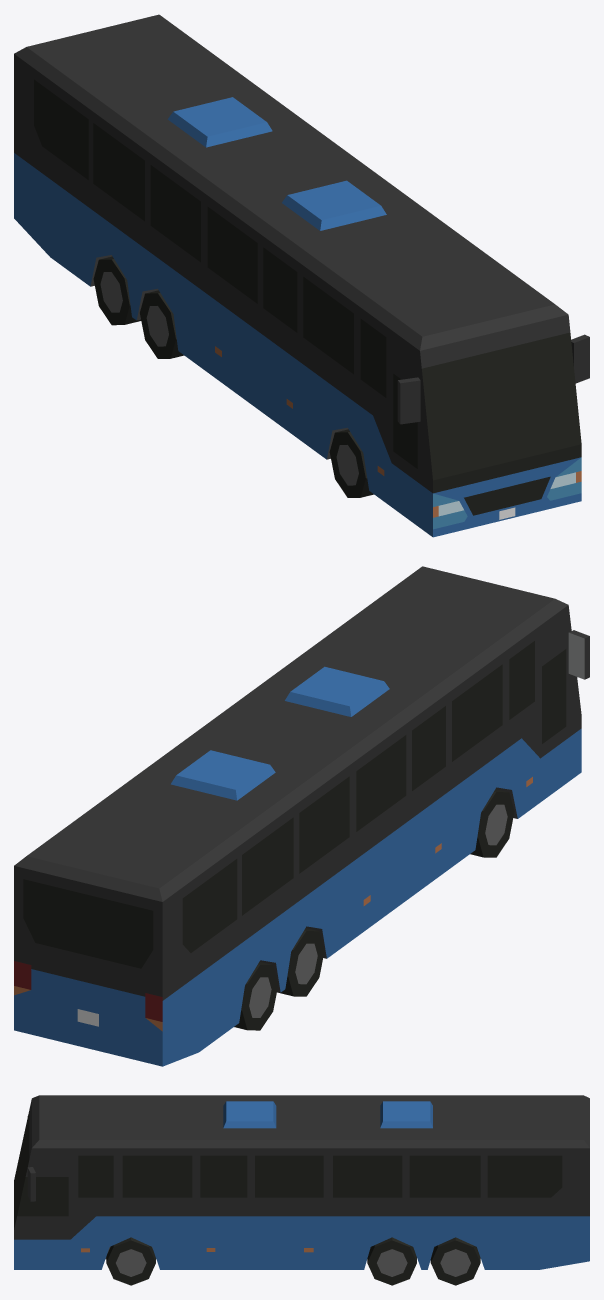
File: Veh_Coach_01_Blue.glb
3 renders of one model, top to bottom at view 1: azimuth 30°, elevation 25°; view 2: azimuth 150°, elevation 25°; view 3: azimuth 270°, elevation 25°, orthographic. The views are drawn at different scales.
Parts seen in each view (by area): view 1: Coach_01_Blue, Wheel_FR, Wheel_RR2, Wheel_RR1; view 2: Coach_01_Blue, Wheel_RR1, Wheel_RR2, Wheel_FR; view 3: Coach_01_Blue, Wheel_RL2, Wheel_RL1, Wheel_FL.
Boxes of the visible parts, x1,y1,x2,y2 form: Coach_01_Blue: (14, 14, 589, 537); Wheel_FR: (329, 429, 373, 497); Wheel_RR2: (93, 256, 141, 325); Wheel_RR1: (140, 290, 183, 358); Coach_01_Blue: (14, 566, 589, 1066); Wheel_RR1: (277, 928, 324, 996); Wheel_RR2: (234, 962, 278, 1030); Wheel_FR: (470, 789, 514, 857); Coach_01_Blue: (14, 1095, 589, 1269); Wheel_RL2: (430, 1237, 480, 1285); Wheel_RL1: (367, 1237, 416, 1285); Wheel_FL: (106, 1237, 155, 1285).
Bounding box in the file's own units: 1.75 × 1.9 × 6.68.
1 material, 1 textured.
